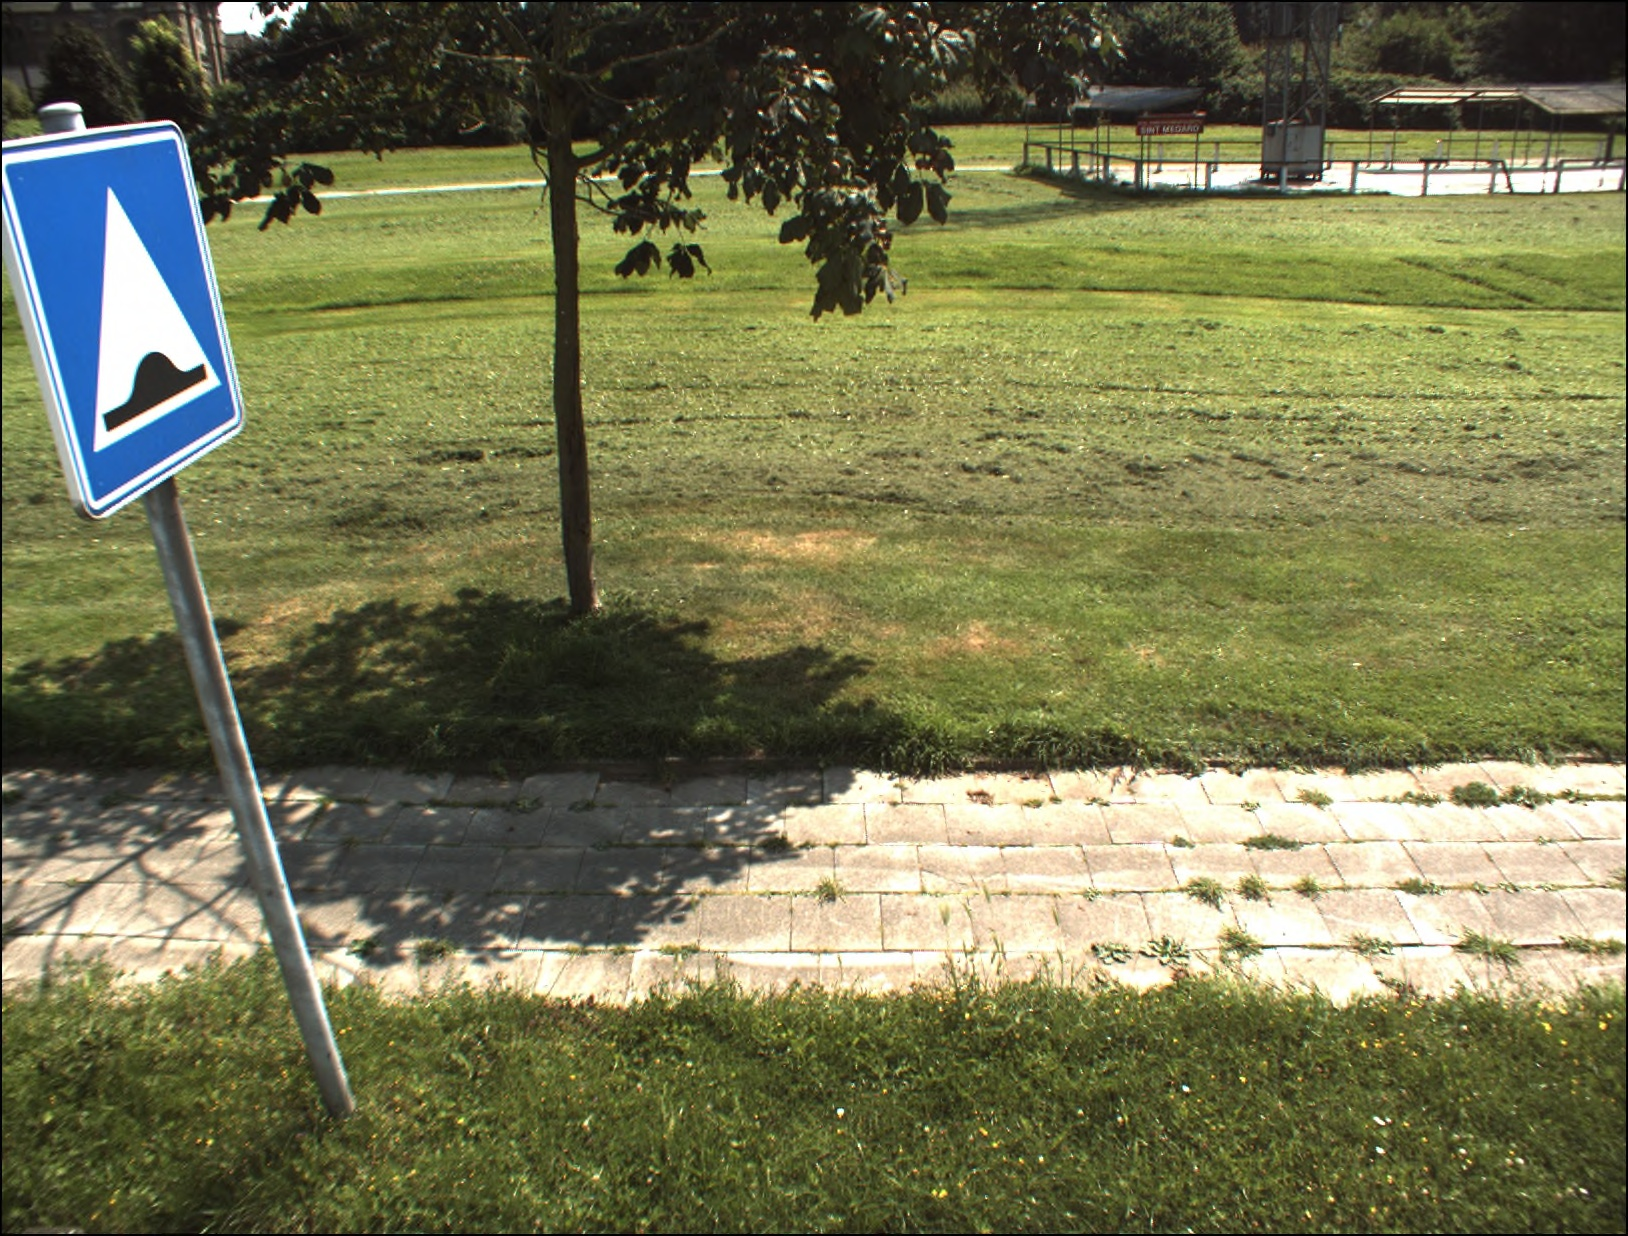speedbump: (5, 154, 244, 497)
